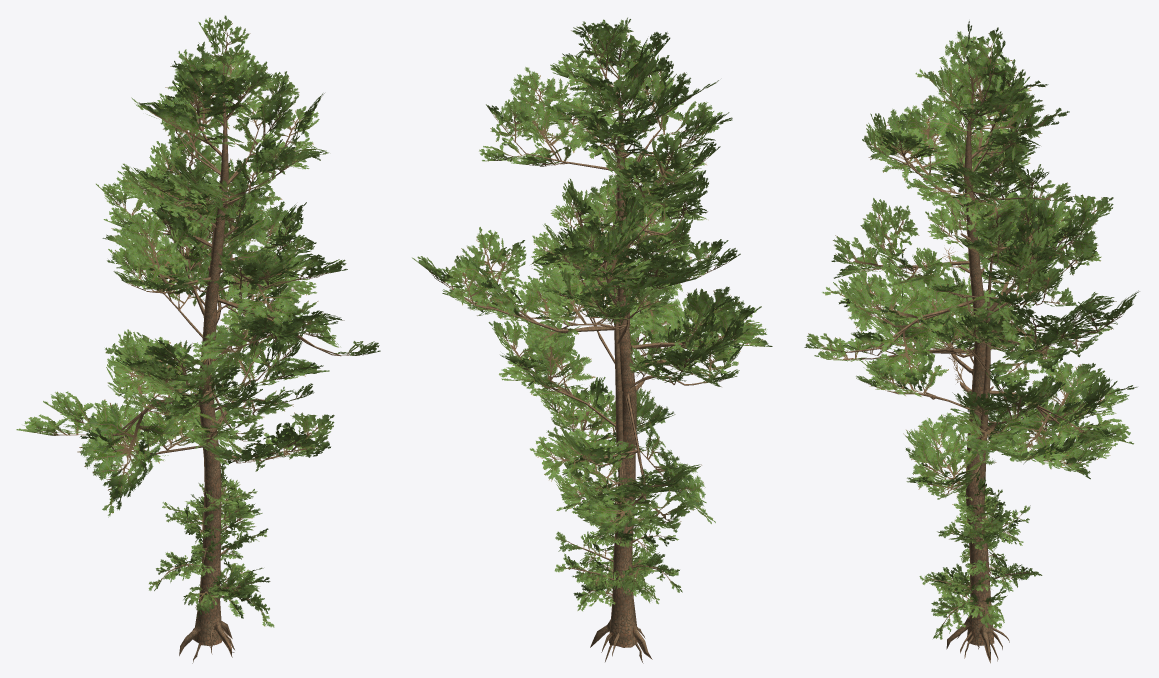
File: pins.glb
The picture shows the model from 3 angles, left to right: view 1: azimuth 30°, elevation 25°; view 2: azimuth 150°, elevation 25°; view 3: azimuth 270°, elevation 25°; orthographic projection. The views are drawn at different scales.
Parts seen in each view (by area): view 1: Pine_big_1_LOD1, Pine_big_1_LOD2, Pine_medium_2_LOD1, Pine_medium_2_LOD2, Pine_small_3_LOD1, Pine_small_3_LOD2; view 2: Pine_big_1_LOD1, Pine_big_1_LOD2, Pine_medium_2_LOD1, Pine_medium_2_LOD2, Pine_small_3_LOD1, Pine_small_3_LOD2; view 3: Pine_big_1_LOD1, Pine_big_1_LOD2, Pine_medium_2_LOD1, Pine_medium_2_LOD2, Pine_small_3_LOD1, Pine_small_3_LOD2.
Boxes of the visible parts, x1=… form: Pine_big_1_LOD1: x1=16, y1=15, x2=380, y2=657; Pine_big_1_LOD2: x1=23, y1=49, x2=374, y2=646; Pine_medium_2_LOD1: x1=80, y1=162, x2=334, y2=663; Pine_medium_2_LOD2: x1=90, y1=175, x2=329, y2=659; Pine_small_3_LOD1: x1=148, y1=462, x2=274, y2=627; Pine_small_3_LOD2: x1=166, y1=474, x2=259, y2=610; Pine_big_1_LOD1: x1=412, y1=17, x2=772, y2=659; Pine_big_1_LOD2: x1=422, y1=25, x2=766, y2=652; Pine_medium_2_LOD1: x1=488, y1=178, x2=743, y2=663; Pine_medium_2_LOD2: x1=493, y1=184, x2=740, y2=660; Pine_small_3_LOD1: x1=554, y1=459, x2=682, y2=611; Pine_small_3_LOD2: x1=572, y1=479, x2=659, y2=606; Pine_big_1_LOD1: x1=804, y1=21, x2=1139, y2=663; Pine_big_1_LOD2: x1=808, y1=55, x2=1135, y2=652; Pine_medium_2_LOD1: x1=856, y1=184, x2=1117, y2=661; Pine_medium_2_LOD2: x1=859, y1=204, x2=1112, y2=652; Pine_small_3_LOD1: x1=919, y1=471, x2=1042, y2=639; Pine_small_3_LOD2: x1=931, y1=487, x2=1026, y2=627.
Bounding box in the file's own units: 7.32 × 17.12 × 8.37.
Materials: 2 (2 with a texture image).
